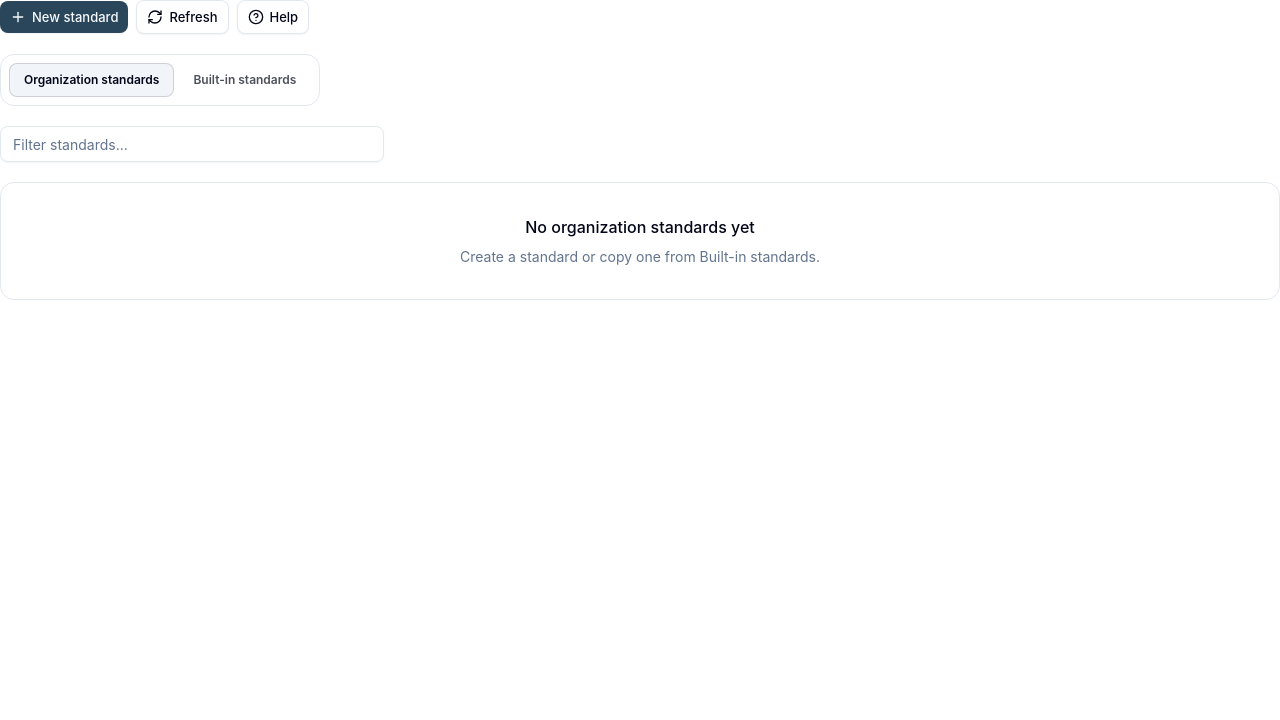
Test: marks AI review items with sparkles while keeping CI checks distinct
Click the tab "Built-in standards".
click(245, 80)  # box [178,63,311,97]
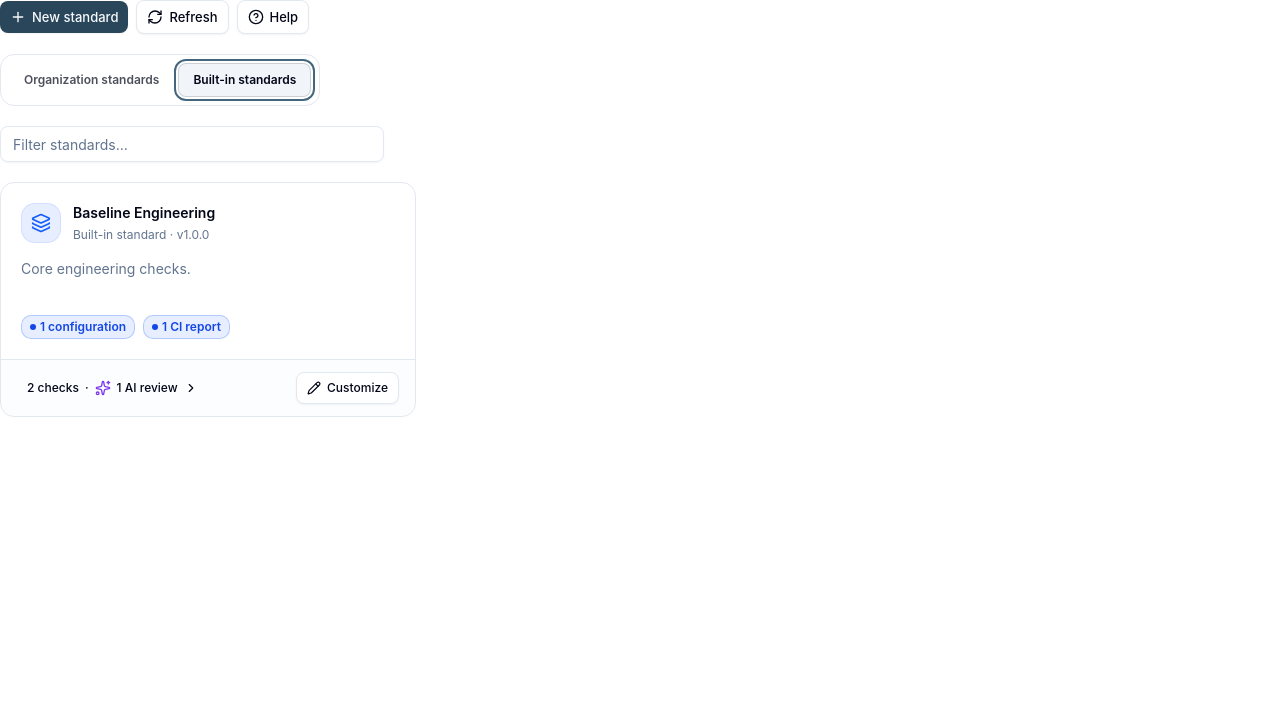
Click the button "2 checks · 1 AI review".
click(112, 388)  # box [17,372,208,404]
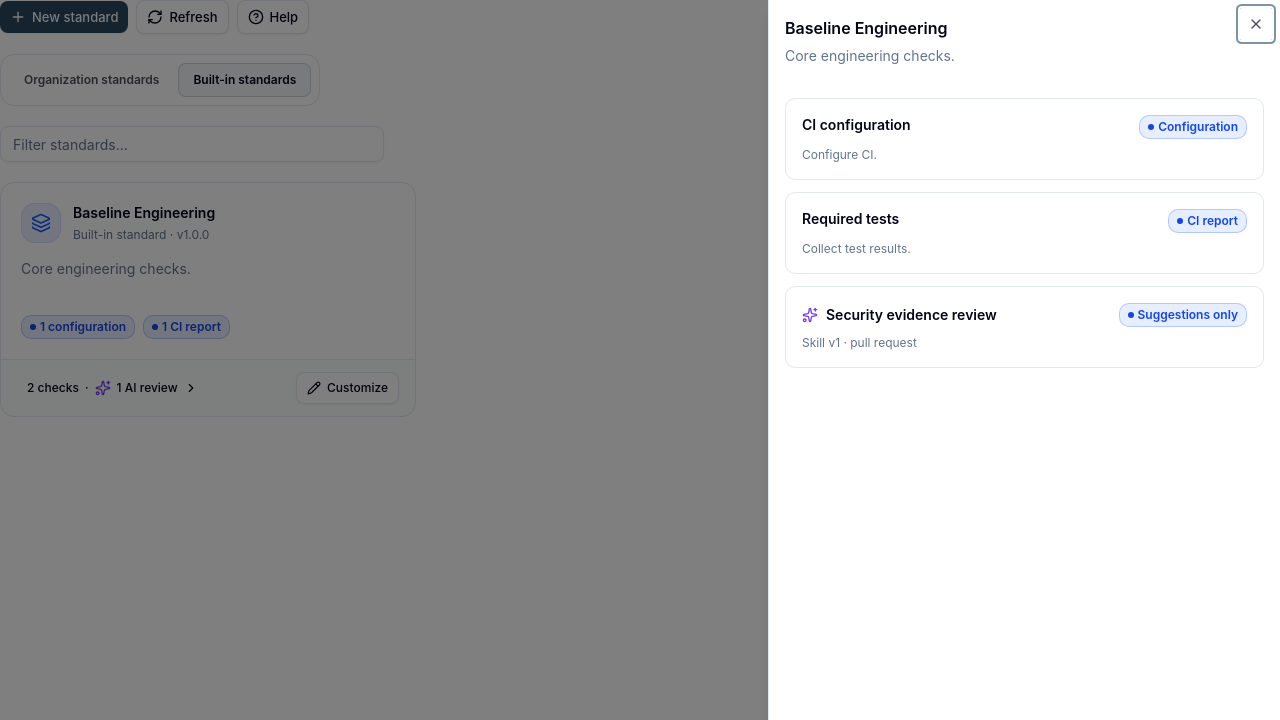
Expected: the heading named "AI-assisted Security evidence review" is shown, [802,305,997,325]
Expected: the heading "CI configuration" is shown, [802,115,911,135]
